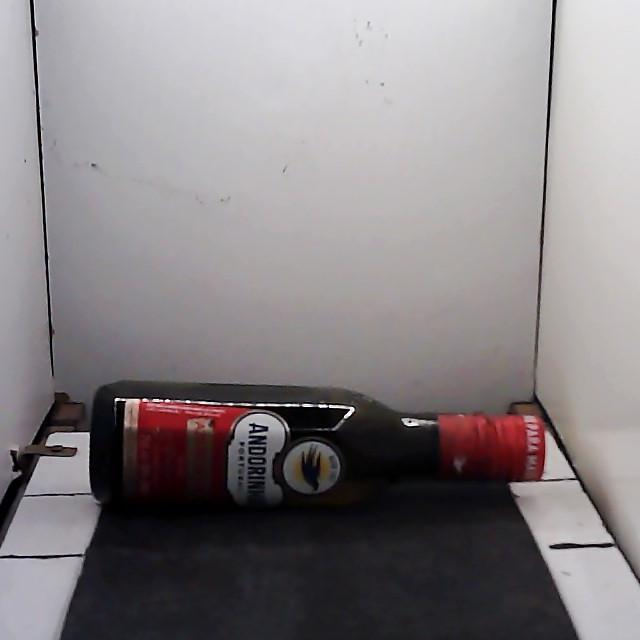vidro: (90, 380, 544, 508)
